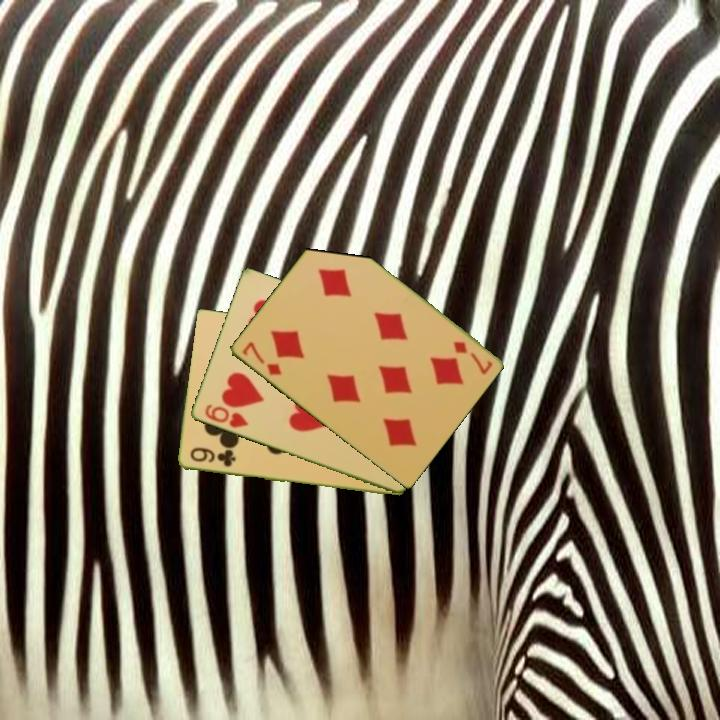6h: (201, 401, 251, 431)
7d: (238, 338, 284, 378), (449, 338, 495, 377)
9c: (186, 444, 238, 470)
